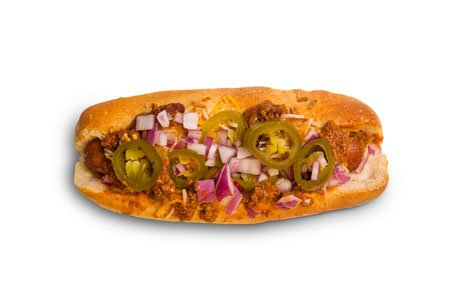sandwich: (73, 85, 390, 225)
